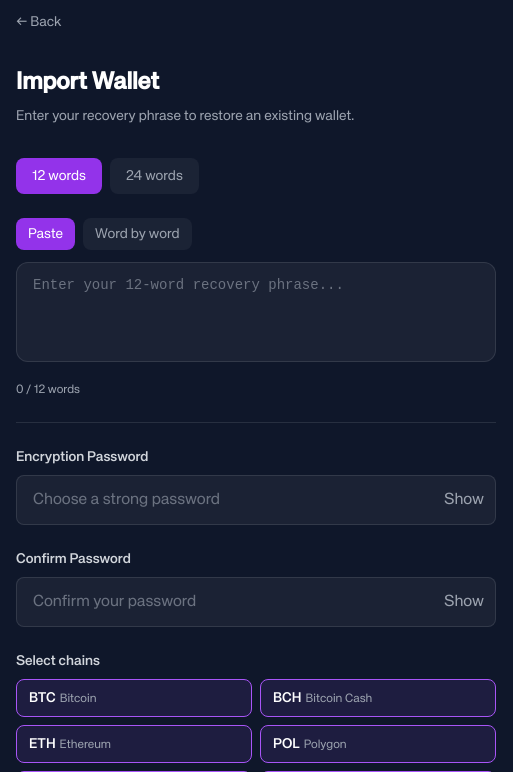
Scenario: ImportWalletPage › should switch between 12 and 24 word modes
Click the button "24 words".
click(154, 176)  # box [110,158,199,194]
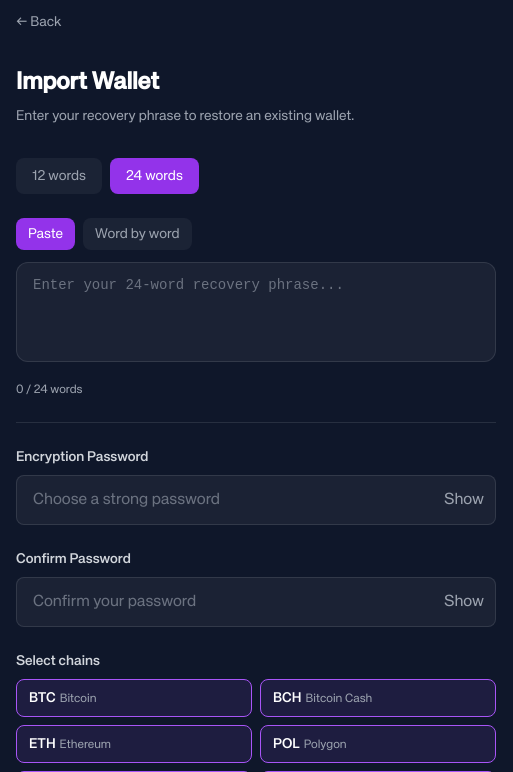
expect the text box with placeholder "Enter your 24-word recovery phrase..." is shown: met, box [16,262,496,362]
